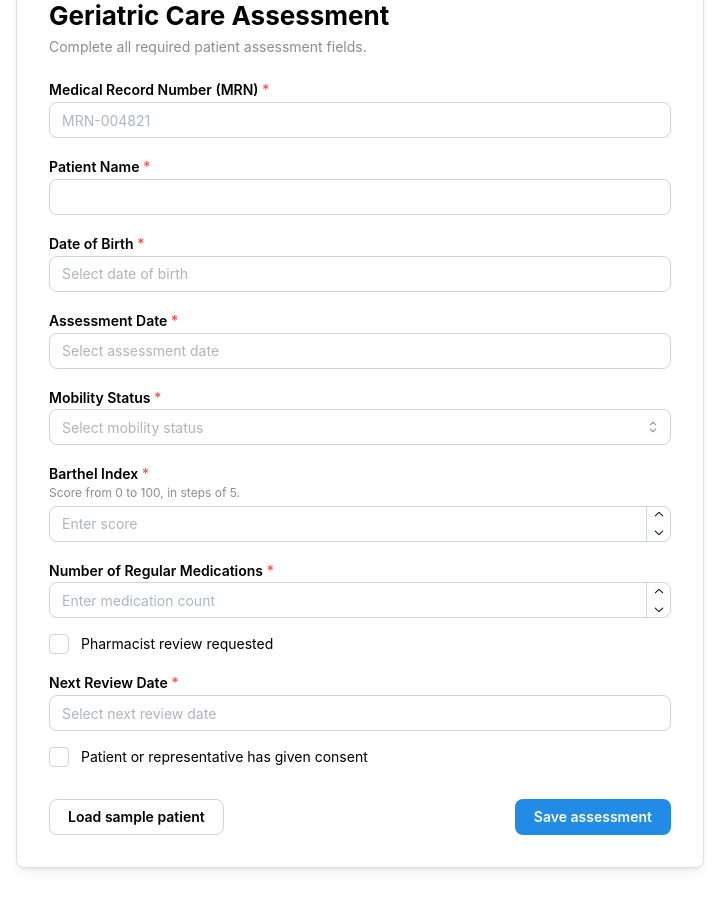
Test: AssessmentForm › submits valid sample data and displays the saved assessment
This screenshot has width=721, height=900.
(page scrolled)
Click the button "Load sample patient": (136, 817) [49,799,224,835]
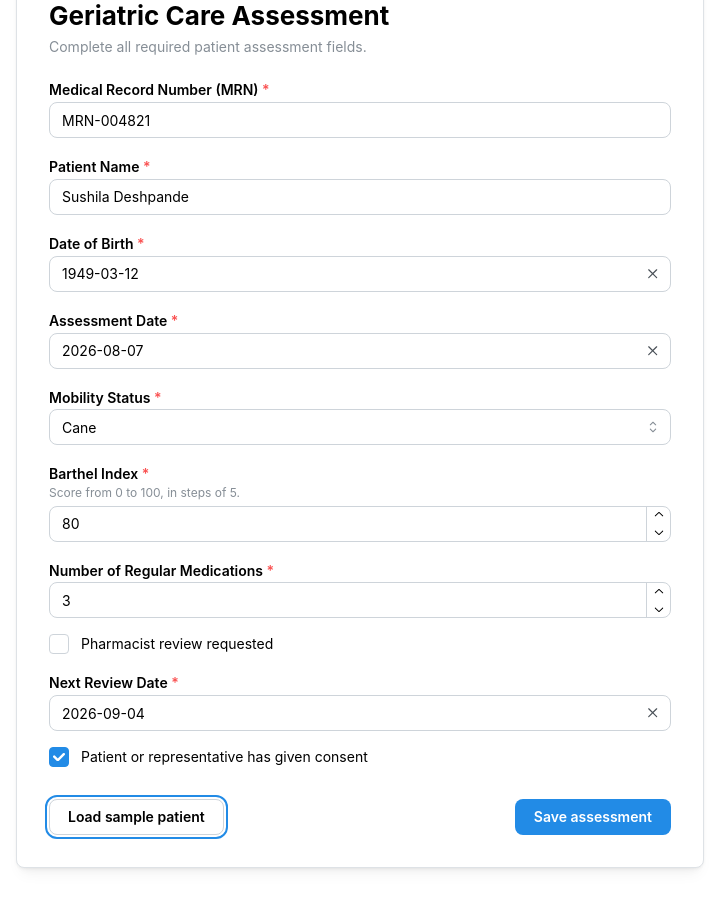
Click the button "Save assessment": (593, 817) [515,799,671,835]
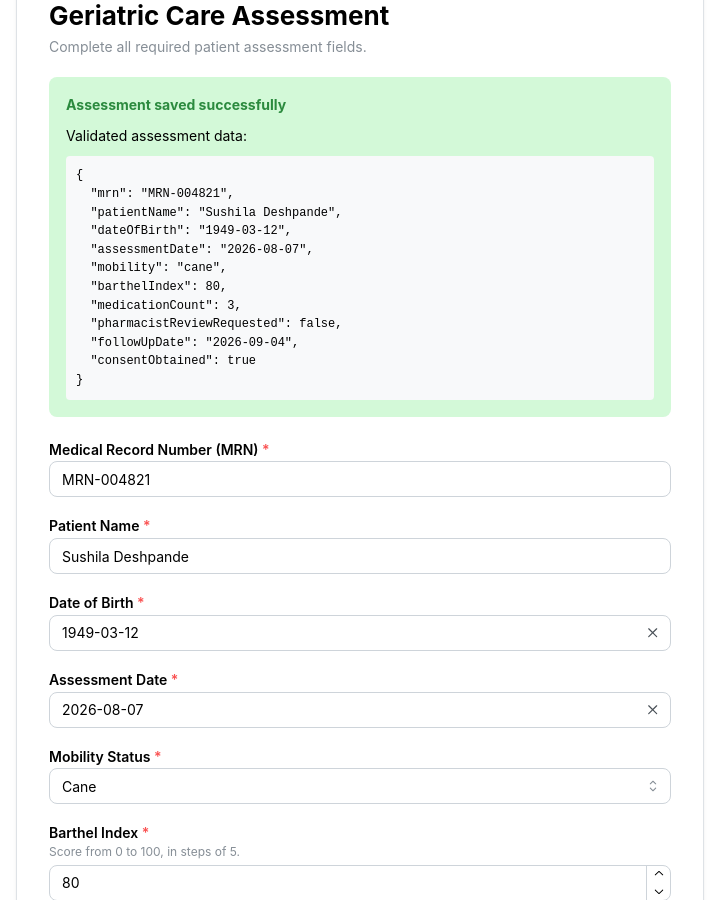
Now the message shows "Assessment saved successfully", box [66,96,286,113]
Now the text "\"MRN-004821\"" is shown, box [76,168,342,387]
